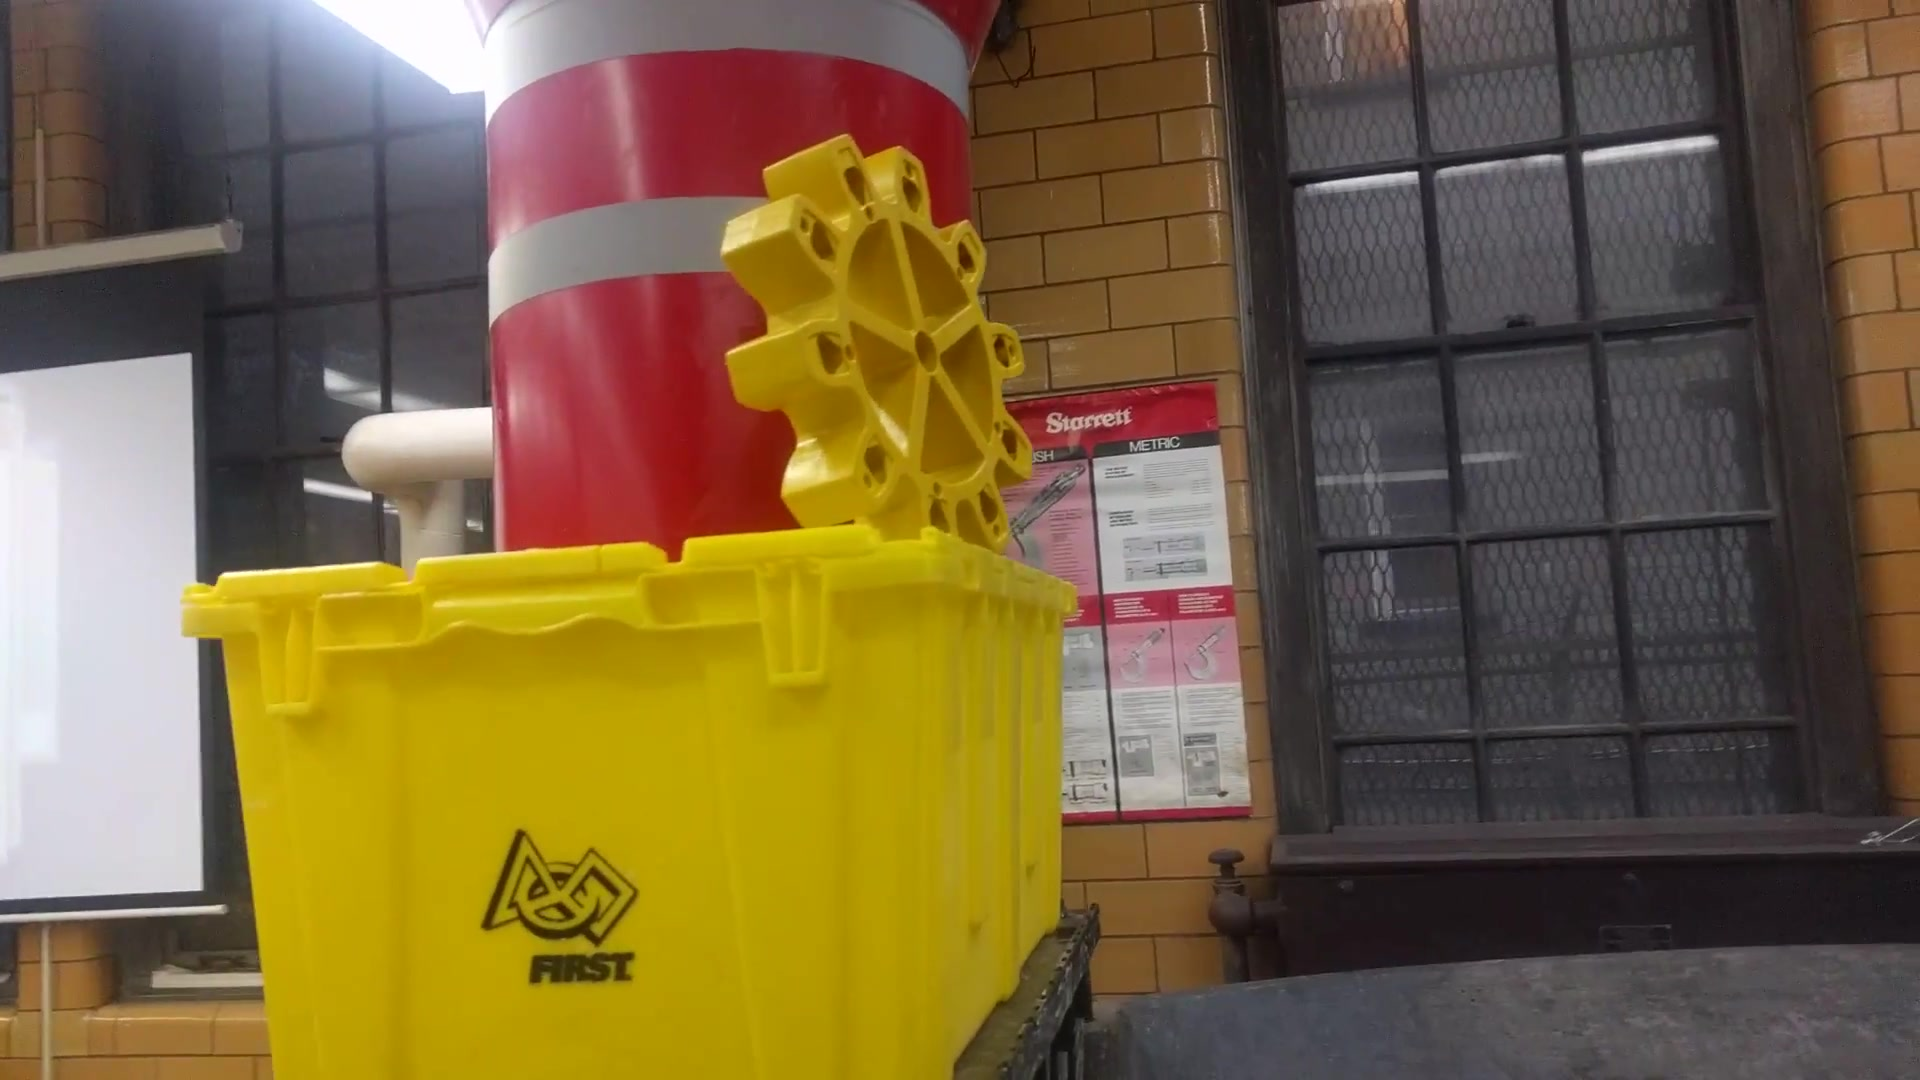gear: (741, 131, 1042, 579)
